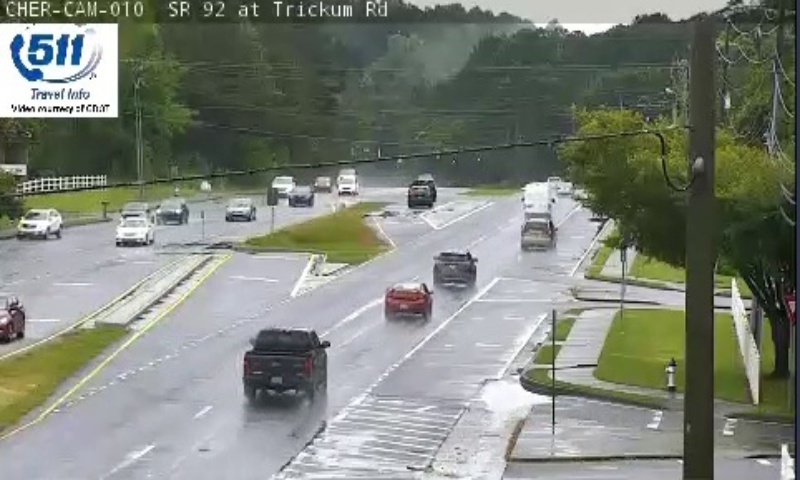car: (242, 328, 326, 391), (385, 283, 431, 315), (433, 250, 474, 283), (521, 218, 554, 249)
van: (524, 182, 552, 220)
